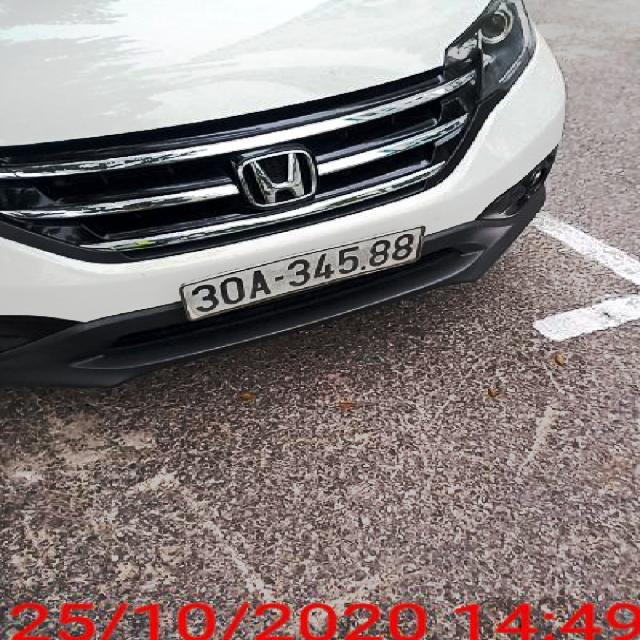license_plate: (183, 227, 426, 322)
